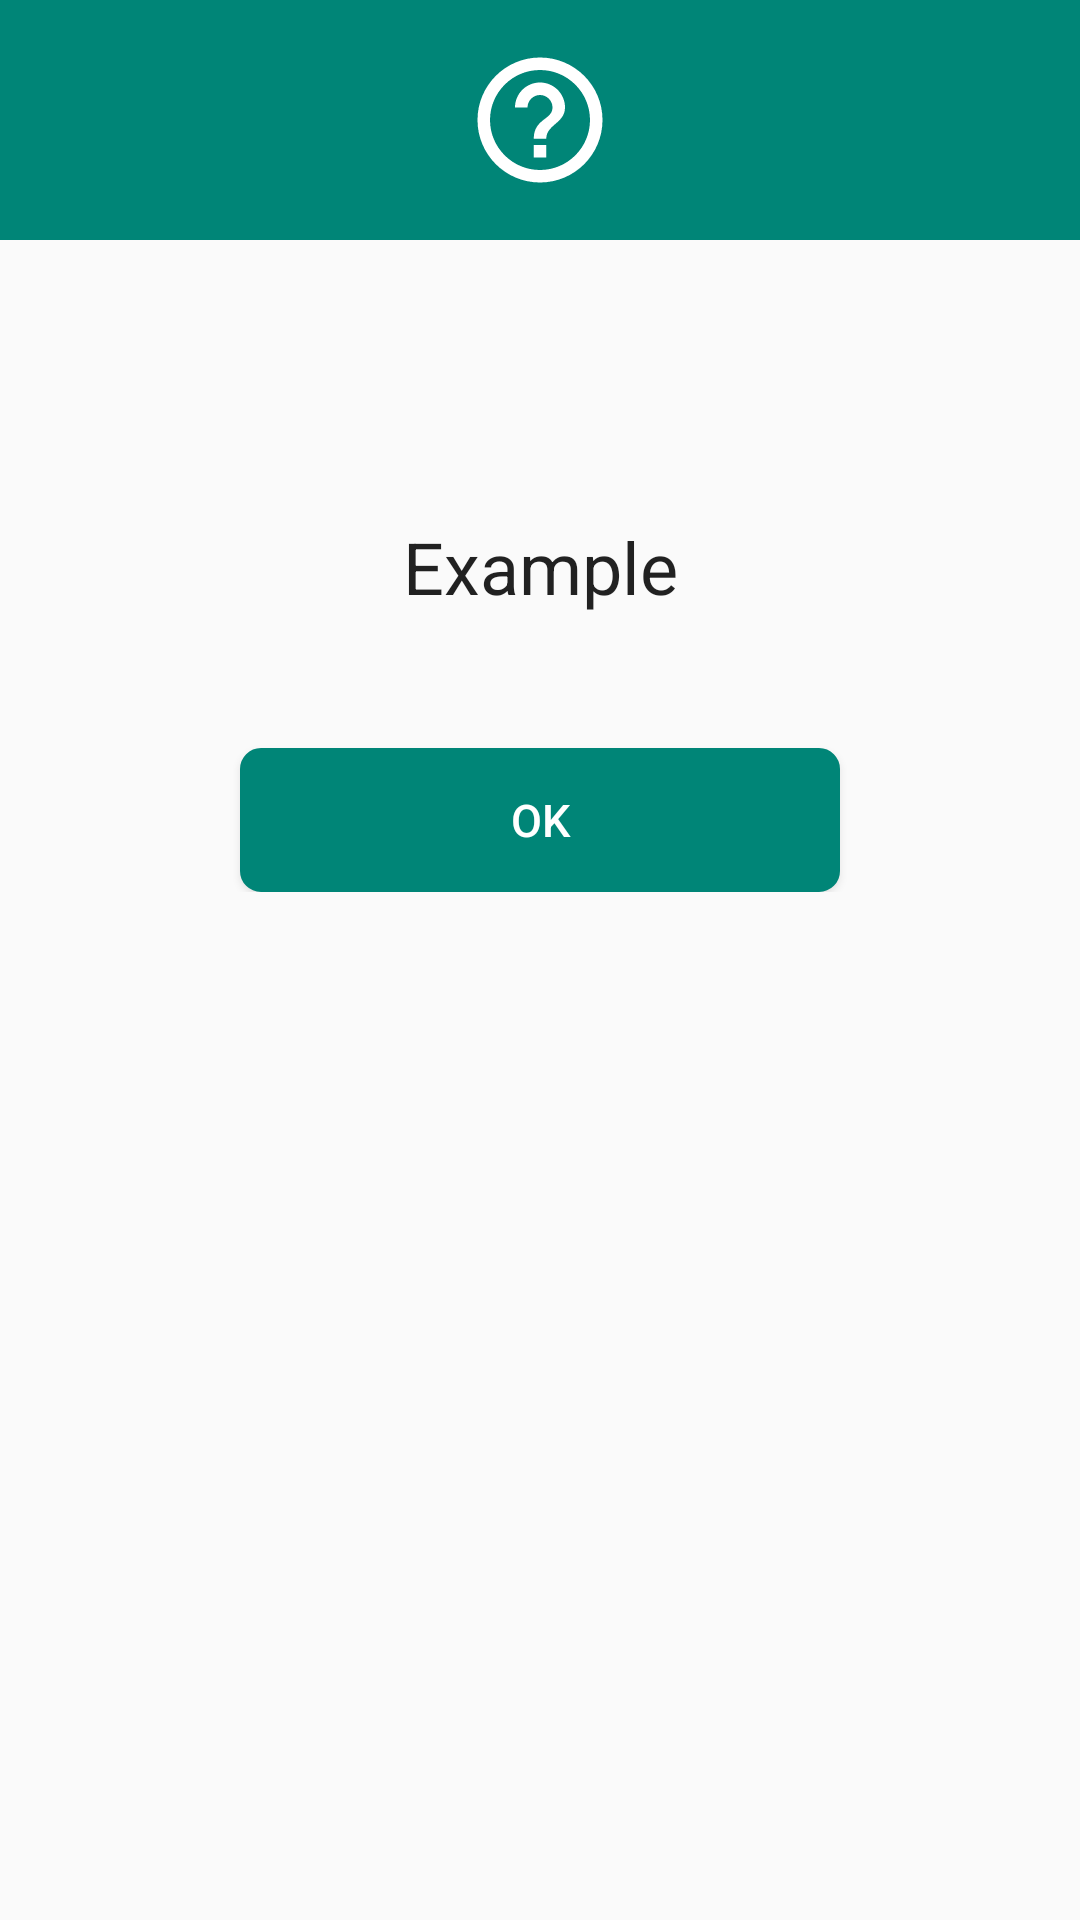

Where to tap for icons on this 1080px×1920px app screen, as [x,y]:
help: [540,120]
